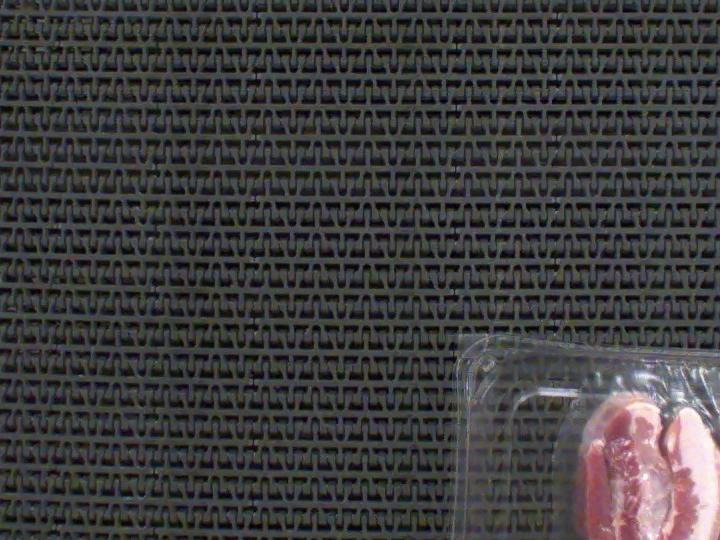unsealed: (518, 358, 720, 540)
